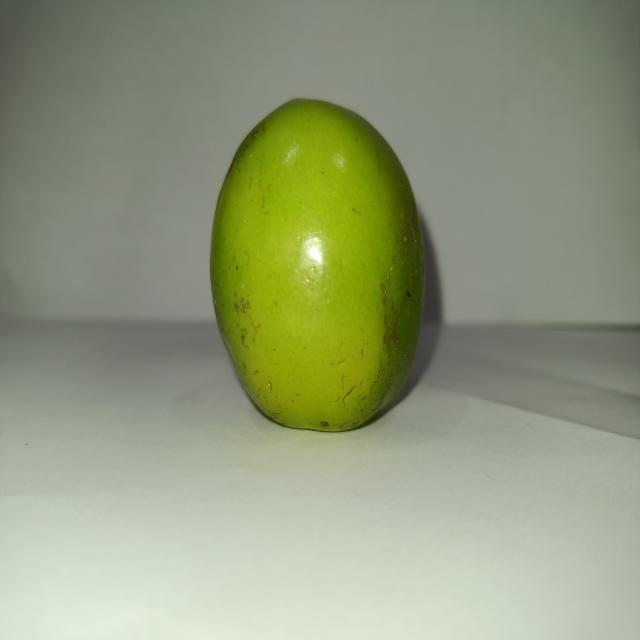Red: (208, 96, 426, 433)
